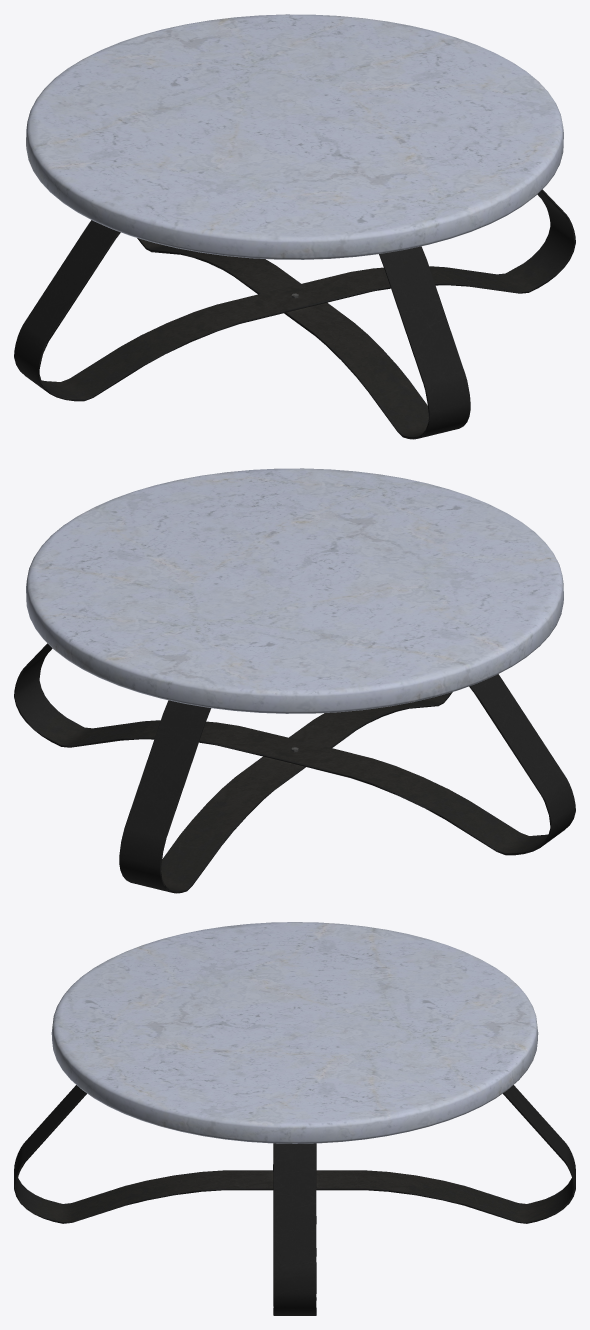
Rendered from coffee_table_round_01.glb.
The picture shows the model from 3 angles, top to bottom: view 1: azimuth 30°, elevation 25°; view 2: azimuth 150°, elevation 25°; view 3: azimuth 270°, elevation 25°; orthographic projection. The views are drawn at different scales.
Visible parts, largest first — view 1: coffee_table_round_01; view 2: coffee_table_round_01; view 3: coffee_table_round_01.
Part boxes in pixels (bbox=[...]): coffee_table_round_01: bbox=[14, 14, 575, 439]; coffee_table_round_01: bbox=[14, 468, 575, 893]; coffee_table_round_01: bbox=[14, 922, 575, 1315].
Bounding box in the file's own units: 1.3 × 0.4909 × 1.3.
Materials: 1 (1 with a texture image).
